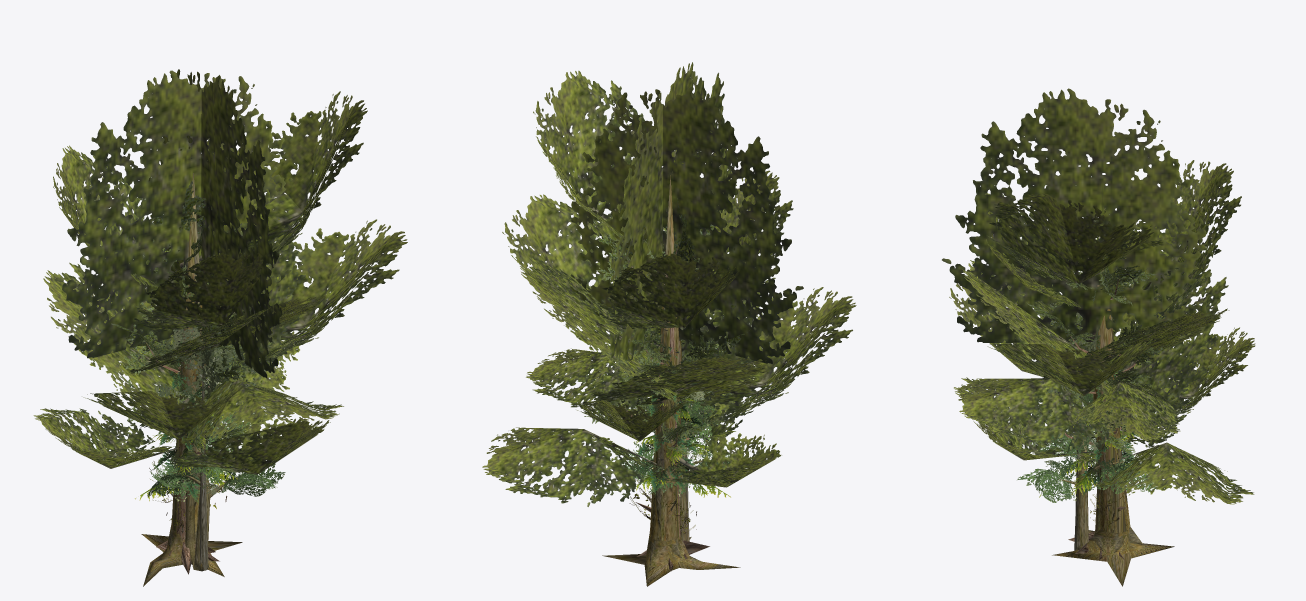
Rendered from New Trees.fbx.
The picture shows the model from 3 angles, left to right: view 1: azimuth 30°, elevation 25°; view 2: azimuth 150°, elevation 25°; view 3: azimuth 270°, elevation 25°; orthographic projection. The views are drawn at different scales.
Parts seen in each view (by area): view 1: Tree, Tree_1, Tree_6, Tree_7, Tree_5, Tree_4; view 2: Tree, Tree_1, Tree_6, Tree_5, Tree_4, Tree_3, Tree_7; view 3: Tree, Tree_1, Tree_6, Tree_5, Tree_7.
Boxes of the visible parts, box(x1,y1,x2,y2) form: Tree: box(33, 69, 407, 586); Tree_1: box(111, 180, 274, 574); Tree_6: box(147, 375, 285, 571); Tree_7: box(153, 317, 265, 570); Tree_5: box(135, 373, 238, 564); Tree_4: box(151, 334, 213, 504); Tree: box(482, 62, 856, 586); Tree_1: box(577, 198, 749, 571); Tree_6: box(621, 368, 729, 541); Tree_5: box(633, 398, 730, 536); Tree_4: box(635, 347, 706, 493); Tree_3: box(637, 347, 696, 496); Tree_7: box(644, 315, 716, 541); Tree: box(942, 88, 1255, 586); Tree_1: box(1027, 208, 1169, 559); Tree_6: box(1017, 391, 1156, 550); Tree_5: box(1060, 373, 1150, 535); Tree_7: box(1039, 312, 1125, 550).
Size of the model in its own units: 1556 by 1989 by 1408.
